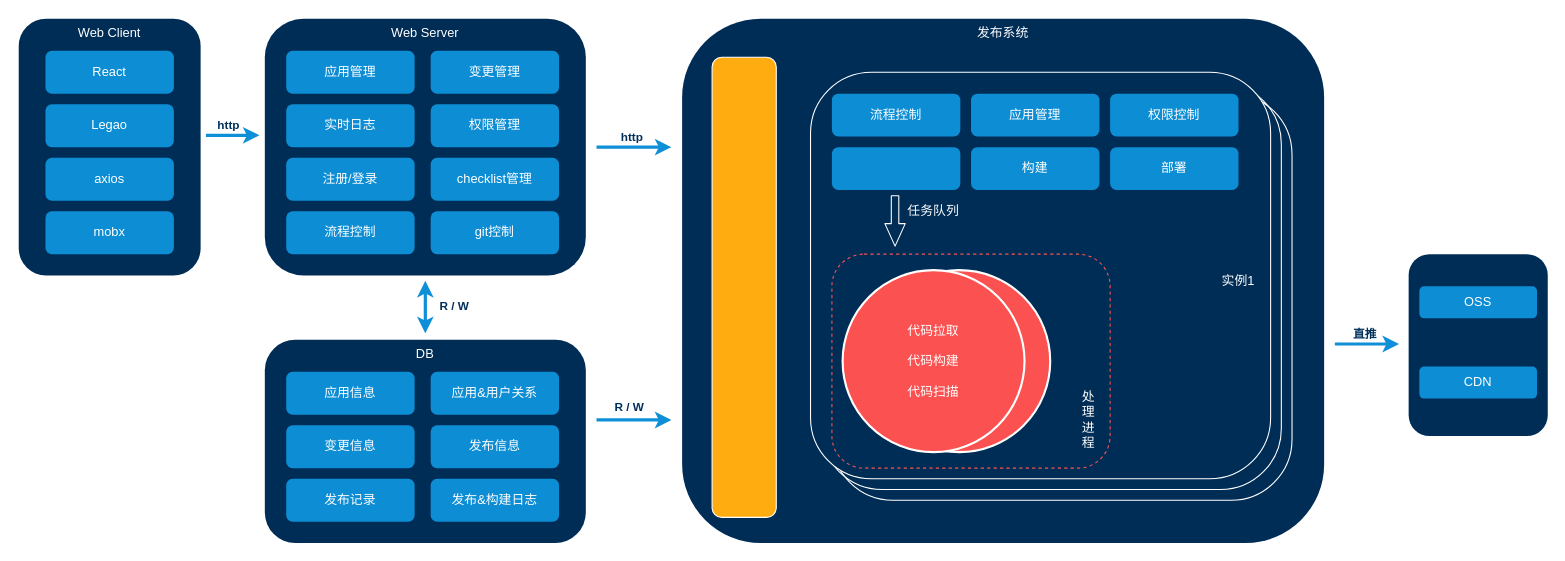
This 1565x561 diagram has some shape labels left out. Each missing label, with the centre of its shape:
nginx SLB: (x=743, y=286)
日志服务: (x=895, y=168)
